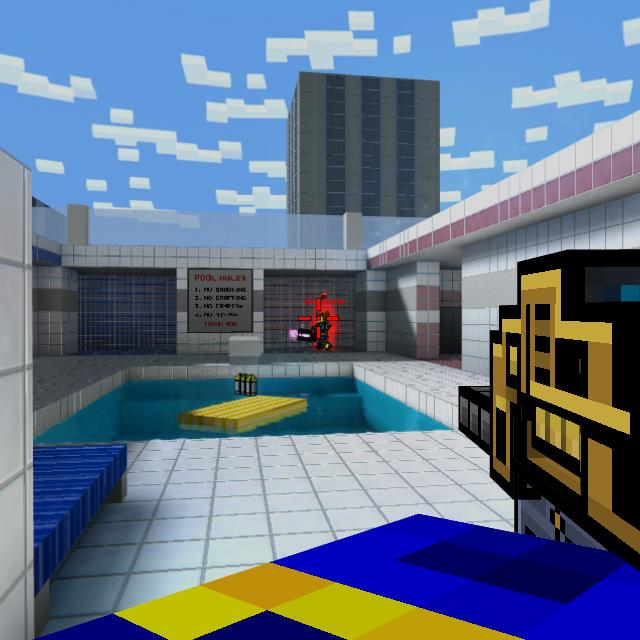Enemy: (312, 311, 333, 350)
